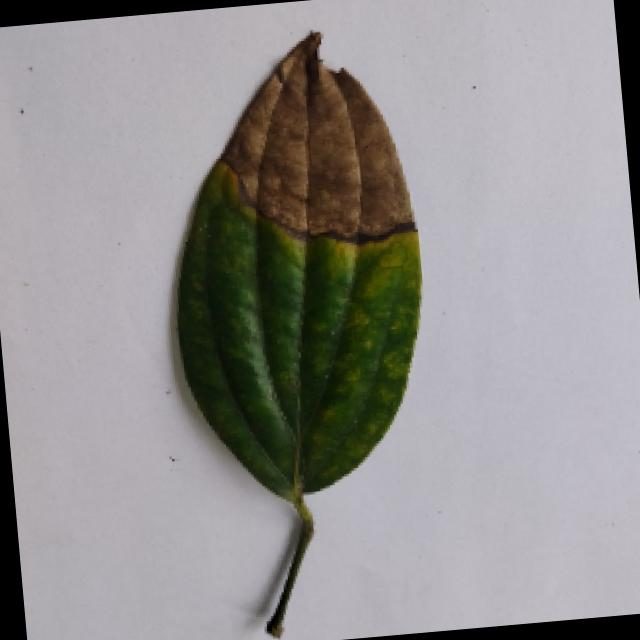footrot: (142, 17, 450, 632)
